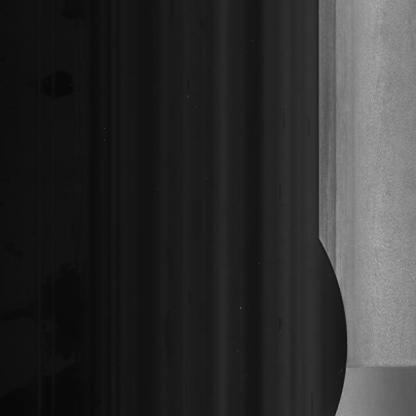welding_line: (337, 353, 414, 381)
